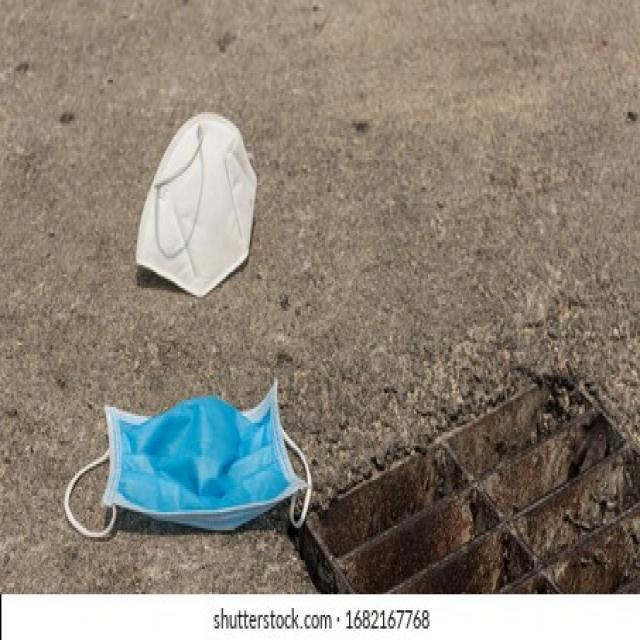face mask: (68, 377, 316, 546), (134, 110, 257, 298)
